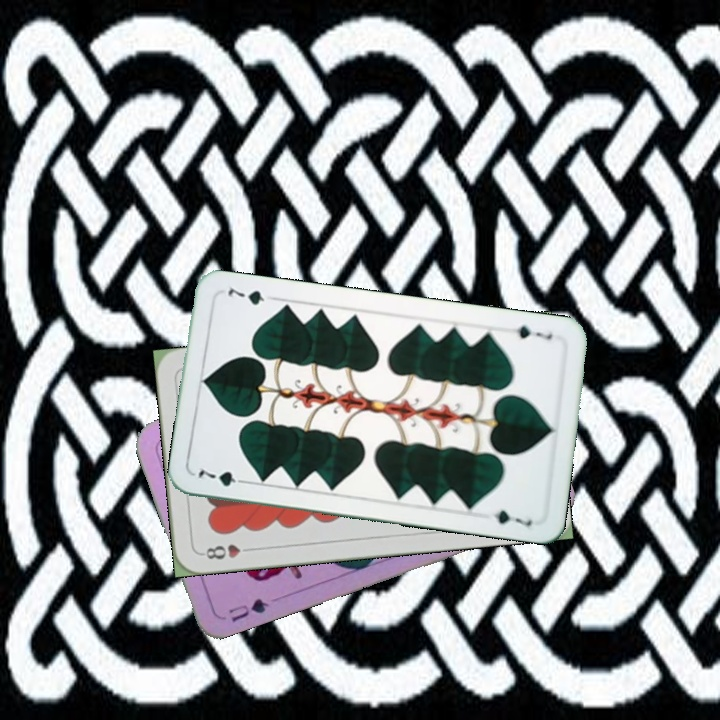G7: (194, 462, 251, 489), (512, 321, 556, 342)
GU: (225, 594, 272, 625)
H8: (197, 540, 257, 563)
